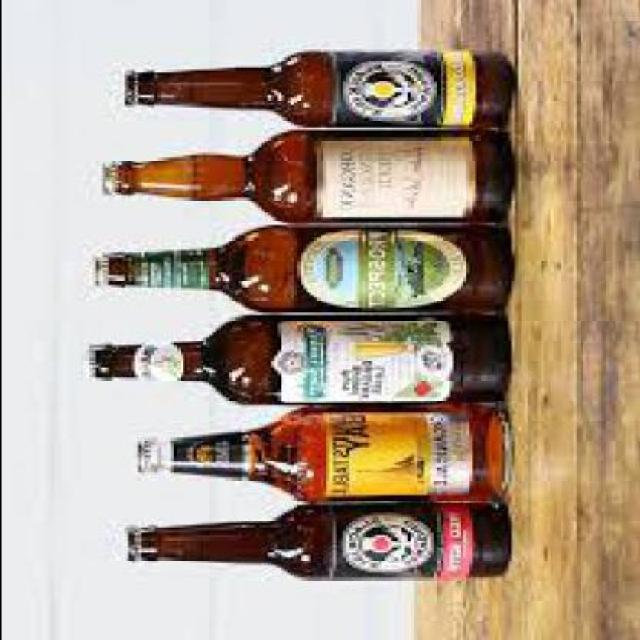GLASS: (107, 222, 504, 315), (143, 400, 503, 500), (94, 312, 503, 400), (110, 128, 501, 220), (130, 499, 504, 578), (137, 50, 506, 125)
METAL: (134, 438, 152, 473), (78, 342, 94, 375), (88, 247, 100, 282), (101, 158, 110, 193), (117, 65, 126, 100)
